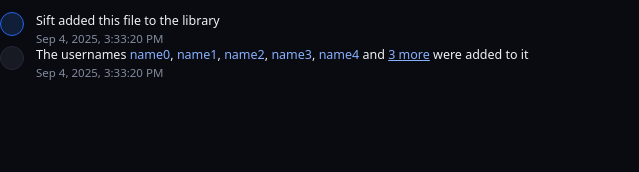
Test: a line that names a list and folds the rest › opens the rest in place, as one list
Click the button "3 more".
click(409, 56)  # box [388,46,430,65]
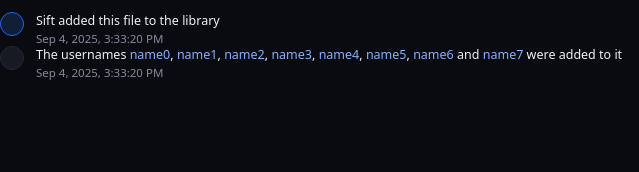
Check: the button "3 more" is gone
